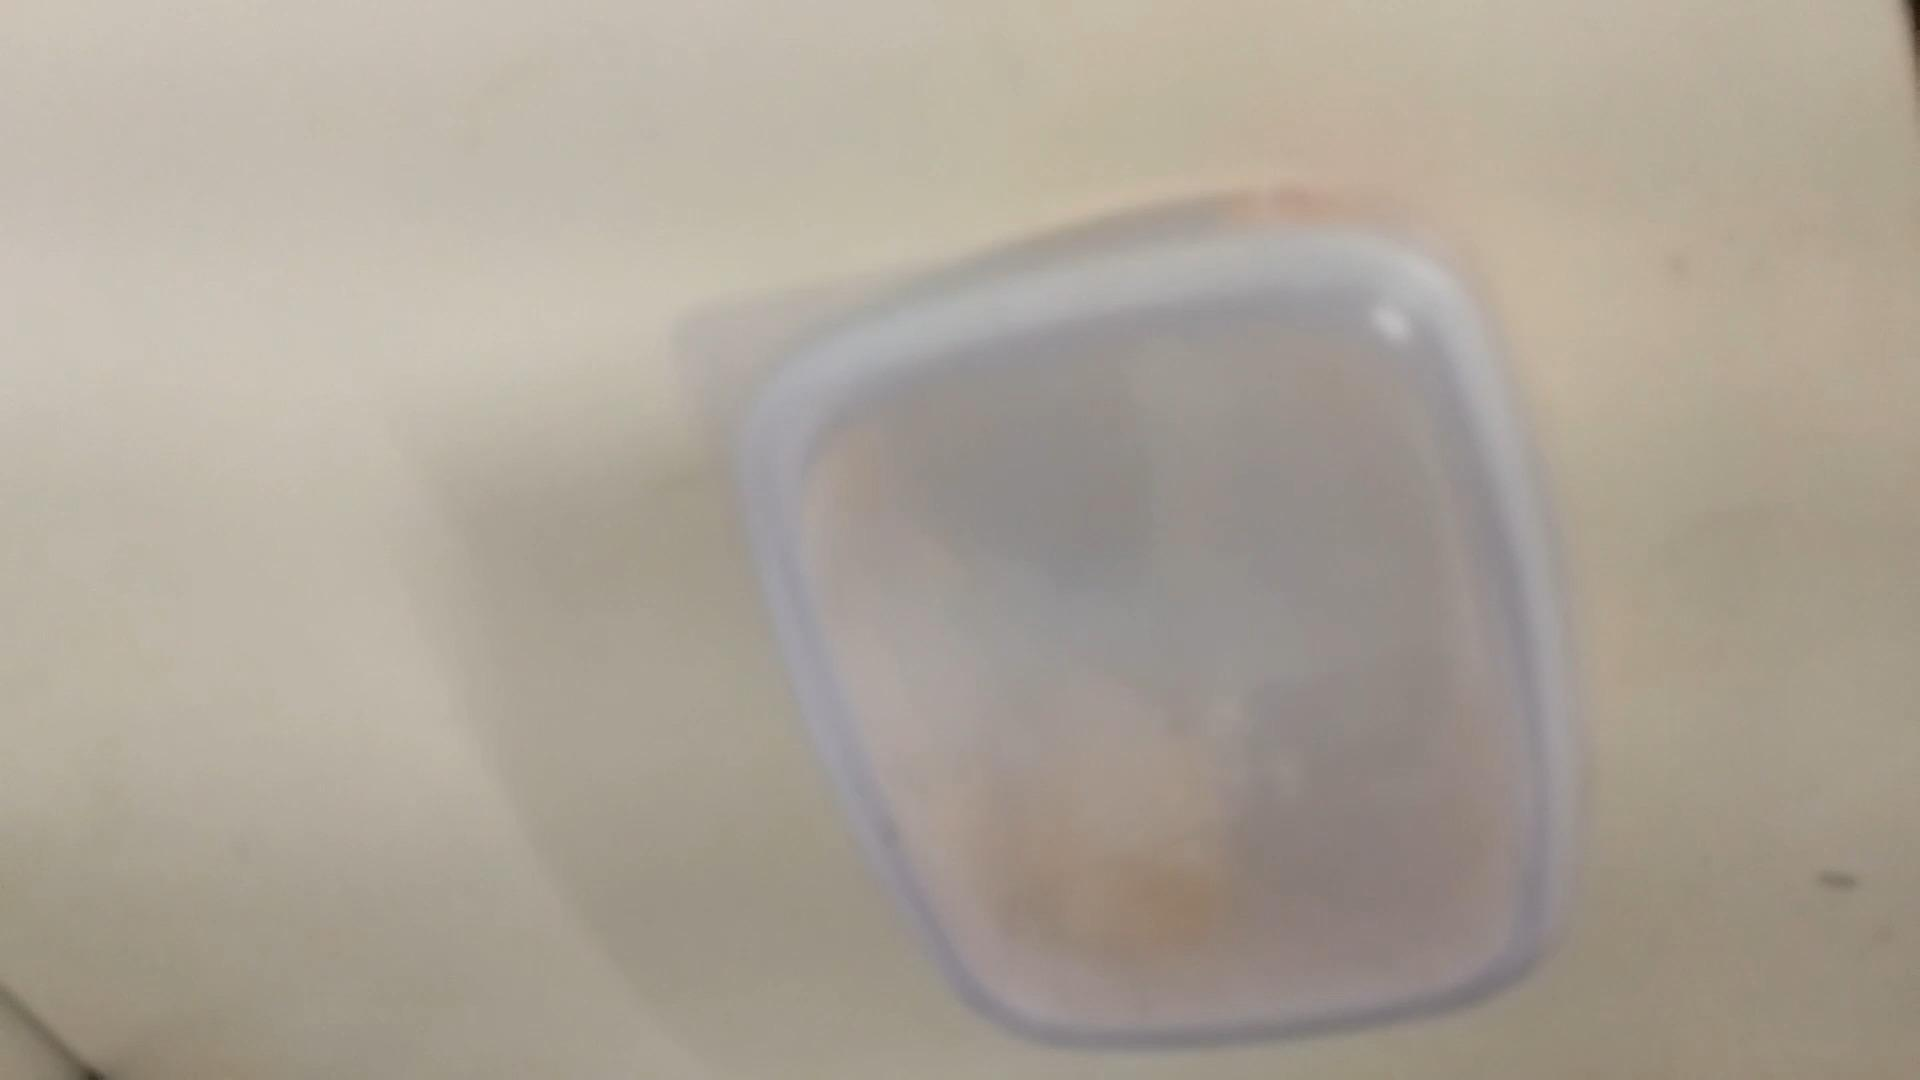butter: (732, 203, 1582, 1052)
